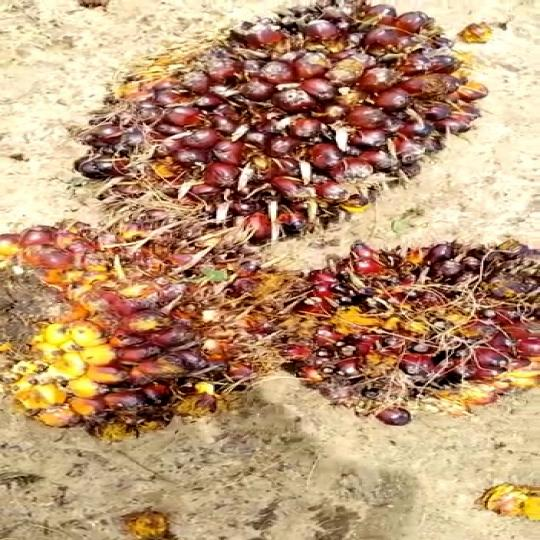masak: (60, 1, 491, 250), (0, 217, 276, 444), (254, 234, 540, 422)
